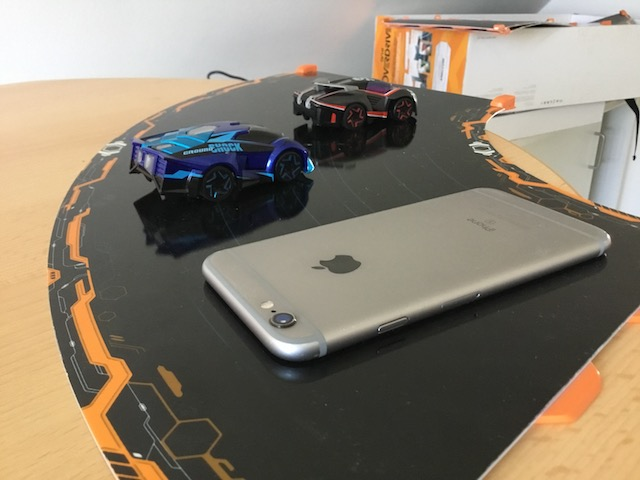car-blue: (127, 118, 318, 203)
car-red: (290, 72, 421, 133)
phone: (199, 183, 614, 366)
